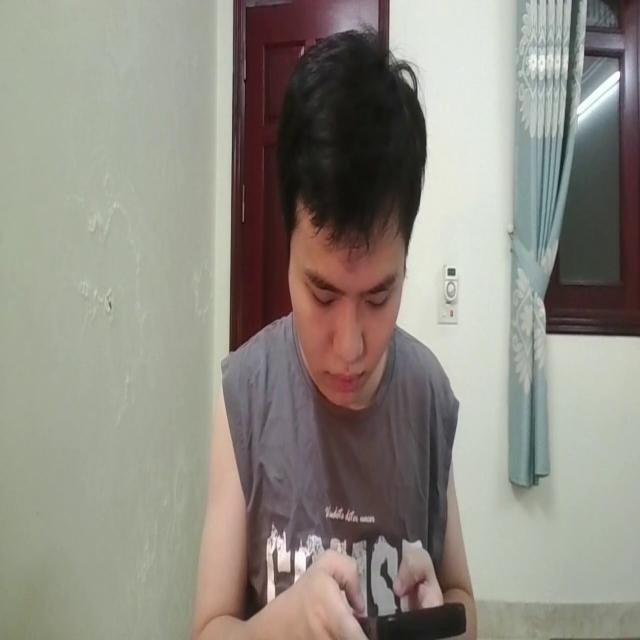phone: (355, 586, 466, 640)
student: (188, 19, 477, 640)
